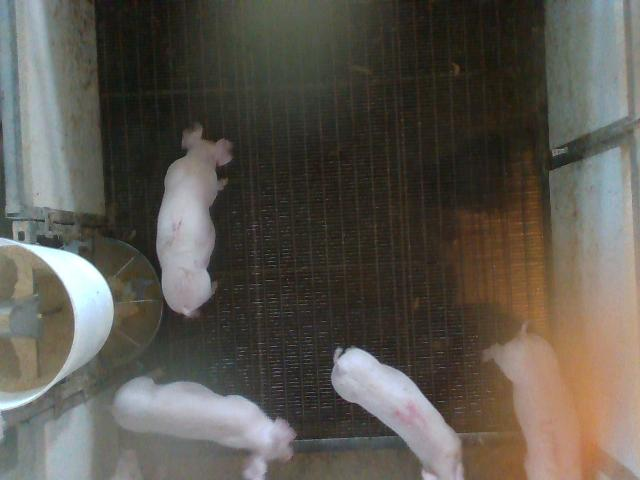pig-3: (484, 322, 581, 478)
pig-4: (331, 348, 464, 479)
